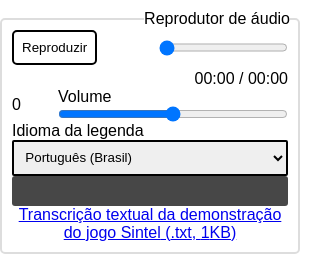
Scenario: [Audio] - Conformidade com o eMAG › Deve alterar o texto do botão para Pausar ao clica-lo
Click the button "Reproduzir": [55, 48] box [12,30,97,65]
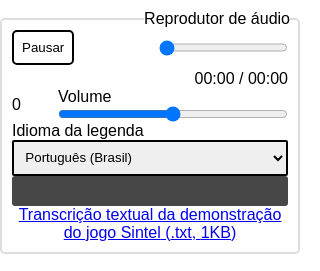
Result: the button "Reproduzir" reads "Pausar"
Click the button "Reproduzir": [43, 48] box [12,30,74,65]
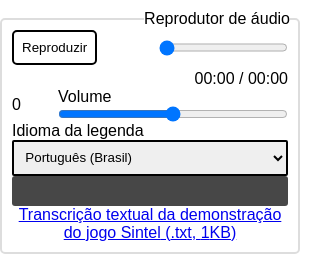
Result: the button "Reproduzir" is shown at [12,30,97,65]
